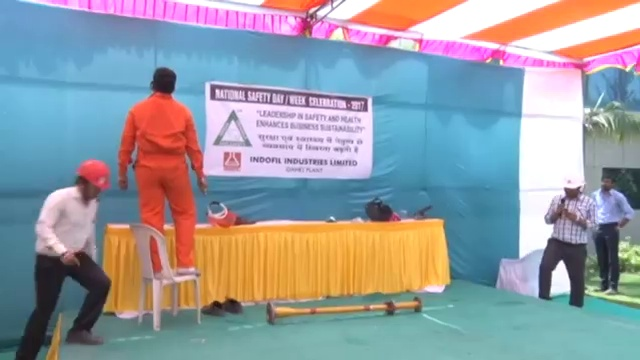helmet: (73, 158, 112, 189), (562, 174, 587, 191)
helmet_off: (150, 67, 176, 96), (599, 175, 615, 194)
helmet_on: (72, 157, 112, 205), (561, 173, 586, 200)
person: (14, 155, 113, 360), (117, 67, 209, 277), (538, 173, 597, 311), (594, 174, 634, 293)
